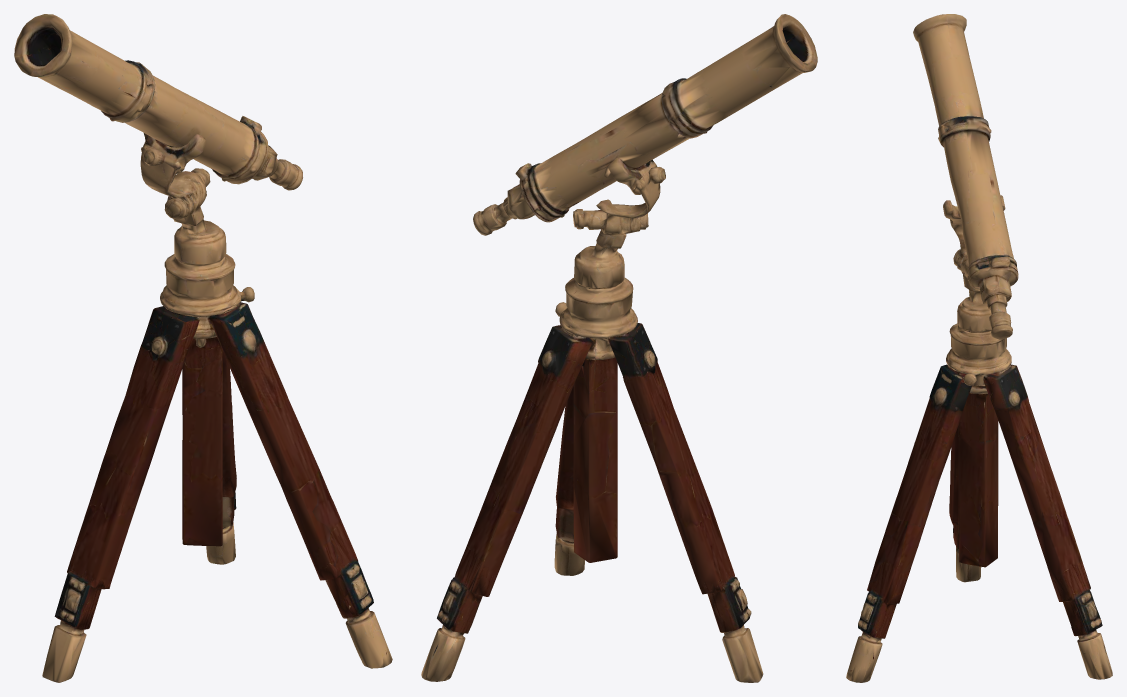
Rendered from telescope.glb.
The picture shows the model from 3 angles, left to right: view 1: azimuth 30°, elevation 25°; view 2: azimuth 150°, elevation 25°; view 3: azimuth 270°, elevation 25°; orthographic projection. The views are drawn at different scales.
Bounding box in the file's own units: 0.9339 × 1.9 × 0.8255.
1 material, 1 textured.
